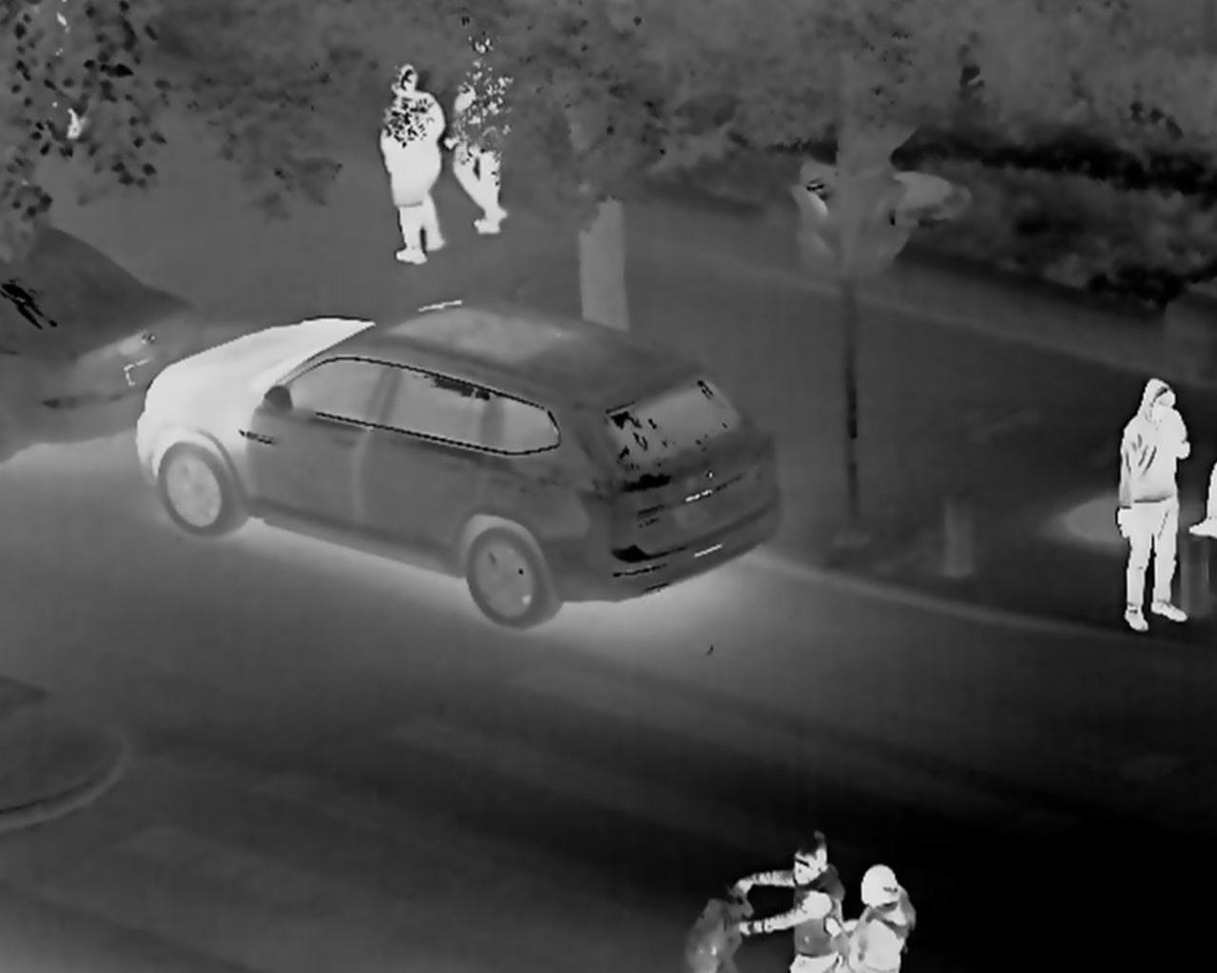person: (1114, 373, 1188, 633), (727, 821, 843, 972), (372, 57, 448, 267), (438, 26, 512, 235), (821, 852, 916, 973)
